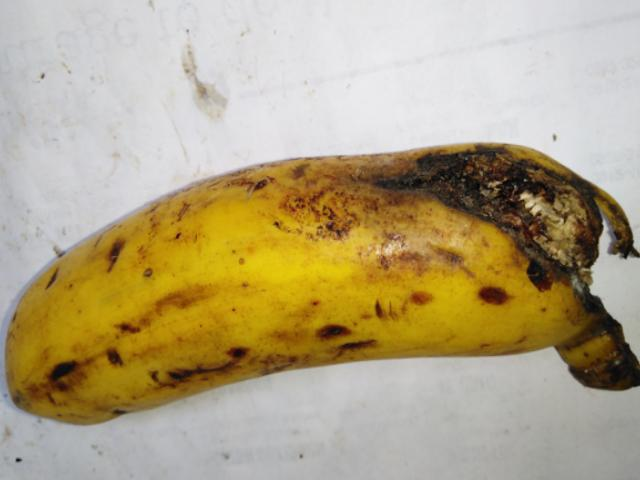ripe: (0, 138, 392, 436)
rotten: (352, 110, 639, 327)
